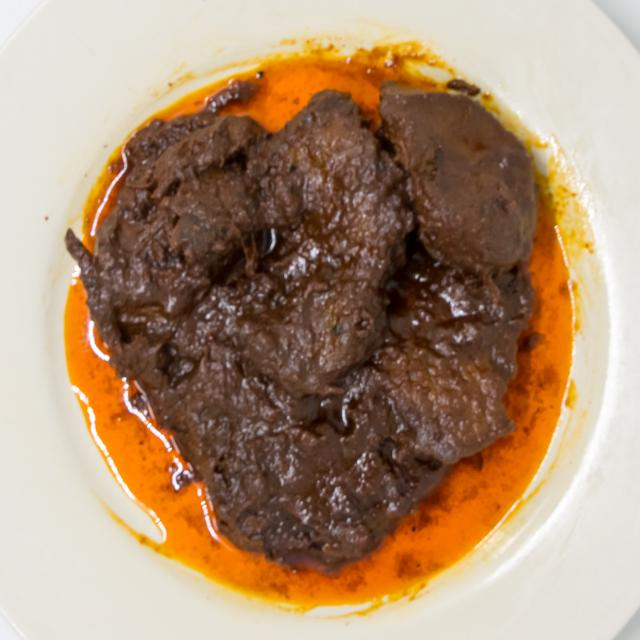Rendang: (68, 65, 549, 576)
